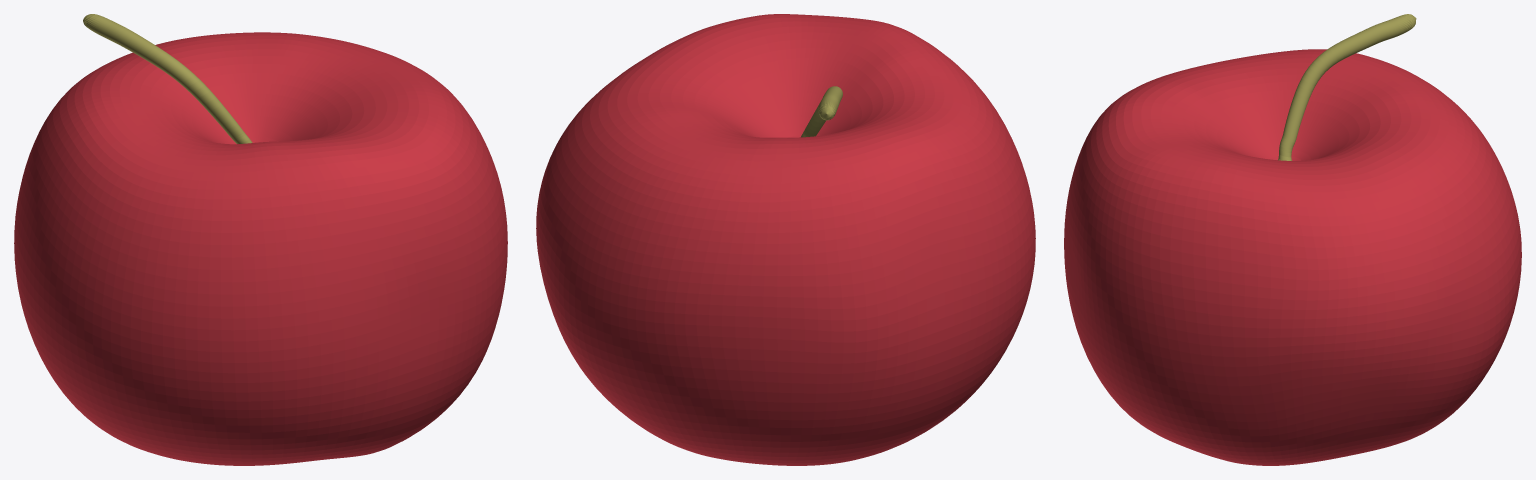
3 views of the same model, side by side, from view 1: azimuth 30°, elevation 25°; view 2: azimuth 150°, elevation 25°; view 3: azimuth 270°, elevation 25° (orthographic). The views are drawn at different scales.
Parts seen in each view (by area): view 1: 球体; view 2: 球体; view 3: 球体.
Boxes of the visible parts, <box> form: 球体: <box>14,14,507,465</box>; 球体: <box>536,14,1035,465</box>; 球体: <box>1064,14,1521,465</box>.
Size of the model in its own units: 69.65 by 59.17 by 69.08.
